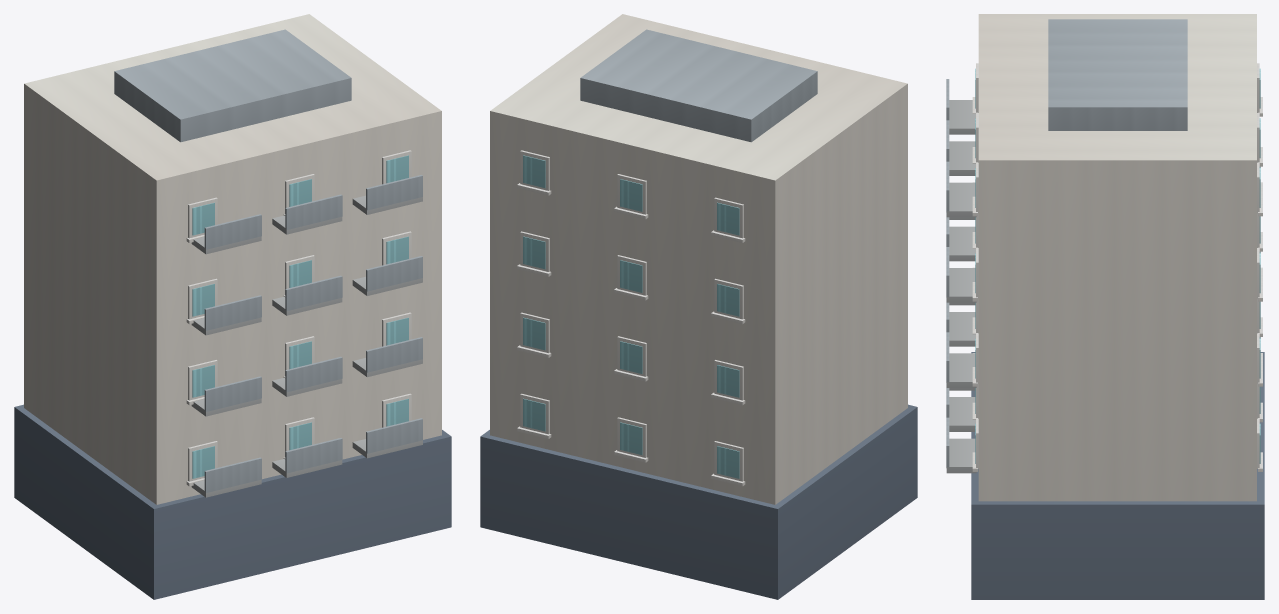
Rendered from apartments.glb.
The picture shows the model from 3 angles, left to right: view 1: azimuth 30°, elevation 25°; view 2: azimuth 150°, elevation 25°; view 3: azimuth 270°, elevation 25°; orthographic projection. The views are drawn at different scales.
Visible parts, largest first — view 1: apartments; view 2: apartments; view 3: apartments.
Boxes of the visible parts, bbox=[...] form: apartments: bbox=[14, 14, 451, 599]; apartments: bbox=[480, 14, 917, 599]; apartments: bbox=[946, 14, 1264, 599].
Size of the model in its own units: 9.6 by 13.5 by 8.46.
Materials: 1 (1 with a texture image).
